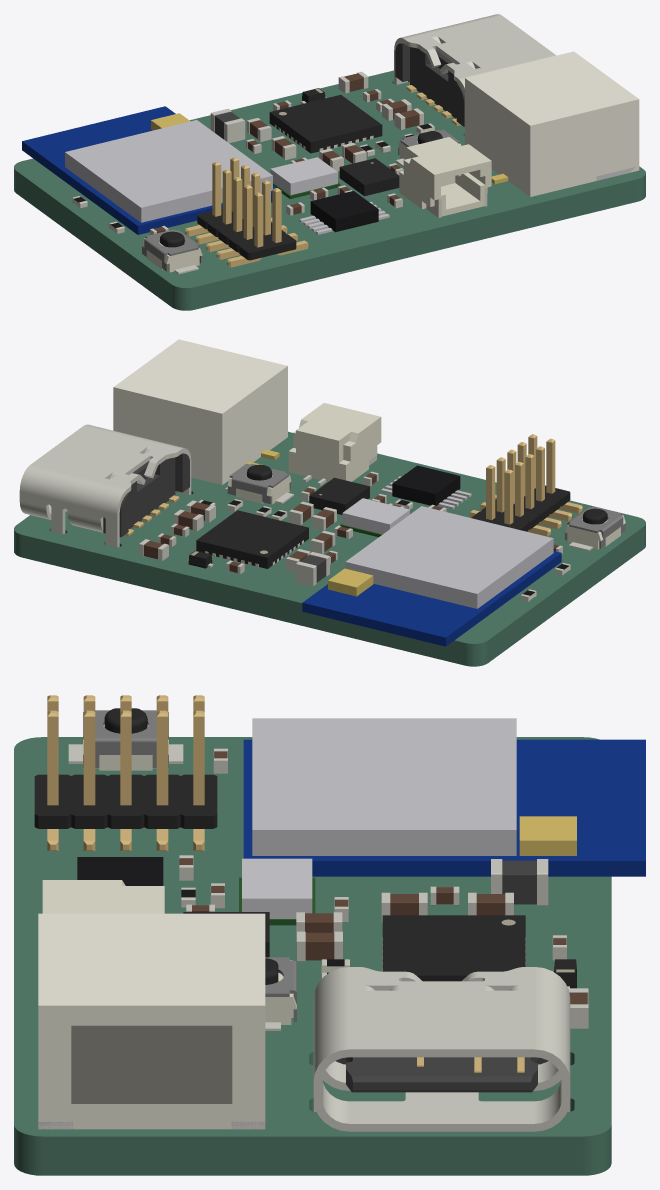
File: cue_board_v6_all_parts.glb
The picture shows the model from 3 angles, top to bottom: view 1: azimuth 30°, elevation 25°; view 2: azimuth 150°, elevation 25°; view 3: azimuth 270°, elevation 25°; orthographic projection. The views are drawn at different scales.
Parts seen in each view (by area): view 1: =>[0:1:1:54], JST_PH_S2B-PH-SM4-TB (Shell), Ezurio_BL54L15_453-00044 (Shell) (×2), =>[0:1:1:38], =>[0:1:1:46], =>[0:1:1:11], =>[0:1:1:40], =>[0:1:1:3] (×2), VSSOP-10_3x3mm_P0.5mm (Shell), =>[0:1:1:9] (×4), TDK_T5838 (Shell), =>[0:1:1:21] (+1 smaller); view 2: =>[0:1:1:54], Ezurio_BL54L15_453-00044 (Shell) (×3), JST_PH_S2B-PH-SM4-TB (Shell), =>[0:1:1:38], =>[0:1:1:46], =>[0:1:1:11], =>[0:1:1:40], =>[0:1:1:3] (×2), VSSOP-10_3x3mm_P0.5mm (Shell), TDK_T5838 (Shell), =>[0:1:1:21], =>[0:1:1:9] (×2) (+1 smaller); view 3: =>[0:1:1:54], Ezurio_BL54L15_453-00044 (Shell) (×3), JST_PH_S2B-PH-SM4-TB (Shell) (×2), =>[0:1:1:38], =>[0:1:1:46], =>[0:1:1:40], =>[0:1:1:3] (×2), =>[0:1:1:9] (×5), TDK_T5838 (Shell), =>[0:1:1:11], =>[0:1:1:5], VSSOP-10_3x3mm_P0.5mm (Shell).
Boxes of the visible parts, box(x1,y1,x2,y2) form: =>[0:1:1:54]: box(14, 70, 645, 310); JST_PH_S2B-PH-SM4-TB (Shell): box(465, 51, 639, 196); Ezurio_BL54L15_453-00044 (Shell) (×2): box(22, 106, 276, 234); =>[0:1:1:38]: box(394, 14, 555, 126); =>[0:1:1:46]: box(185, 157, 308, 267); =>[0:1:1:11]: box(399, 137, 491, 217); =>[0:1:1:40]: box(269, 94, 382, 153); =>[0:1:1:3] (×2): box(142, 129, 460, 274); VSSOP-10_3x3mm_P0.5mm (Shell): box(310, 191, 378, 232); =>[0:1:1:9] (×4): box(247, 71, 423, 160); TDK_T5838 (Shell): box(270, 157, 337, 195); =>[0:1:1:21]: box(339, 158, 399, 196); =>[0:1:1:54]: box(14, 431, 645, 666); Ezurio_BL54L15_453-00044 (Shell) (×3): box(302, 506, 561, 646); JST_PH_S2B-PH-SM4-TB (Shell): box(113, 339, 287, 484); =>[0:1:1:38]: box(19, 424, 191, 547); =>[0:1:1:46]: box(469, 434, 582, 536); =>[0:1:1:11]: box(288, 403, 381, 485); =>[0:1:1:40]: box(196, 510, 308, 568); =>[0:1:1:3] (×2): box(225, 463, 625, 551); VSSOP-10_3x3mm_P0.5mm (Shell): box(392, 465, 460, 505); TDK_T5838 (Shell): box(342, 498, 409, 534); =>[0:1:1:21]: box(309, 477, 369, 514); =>[0:1:1:9] (×2): box(139, 509, 203, 560); =>[0:1:1:54]: box(14, 737, 611, 1175); Ezurio_BL54L15_453-00044 (Shell) (×3): box(243, 718, 645, 876); JST_PH_S2B-PH-SM4-TB (Shell) (×2): box(38, 913, 265, 1129); =>[0:1:1:38]: box(313, 967, 570, 1131); =>[0:1:1:46]: box(34, 695, 217, 851); =>[0:1:1:40]: box(382, 915, 525, 981); =>[0:1:1:3] (×2): box(68, 708, 296, 1030); =>[0:1:1:9] (×5): box(296, 892, 588, 1028); TDK_T5838 (Shell): box(242, 858, 312, 918); =>[0:1:1:11]: box(42, 880, 164, 913); =>[0:1:1:5]: box(491, 859, 548, 905); VSSOP-10_3x3mm_P0.5mm (Shell): box(77, 857, 163, 885).
Bounding box in the file's own units: 0.0329 × 0.00634 × 0.022.
